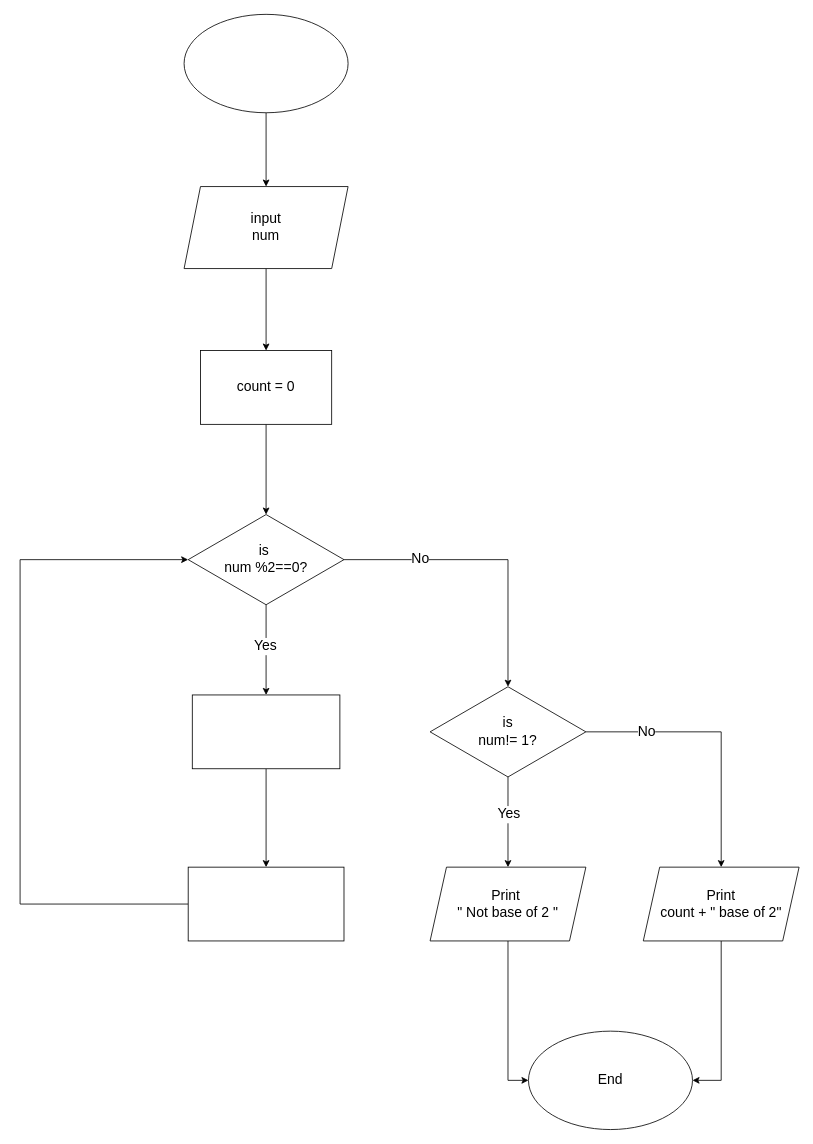
The diagram is 813 pixels wide and 1144 high, and some of its shapes have lost their labels. Each missing label, with the centre of its shape:
count++: point (265, 903)
num/=2: point (265, 731)
Start: point (265, 63)
